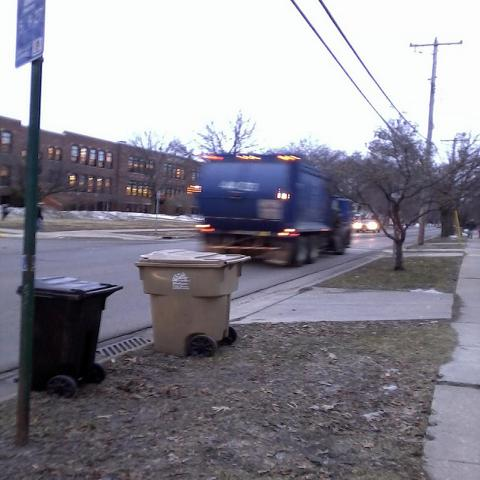car: (354, 220, 381, 232)
truck: (190, 161, 358, 262)
